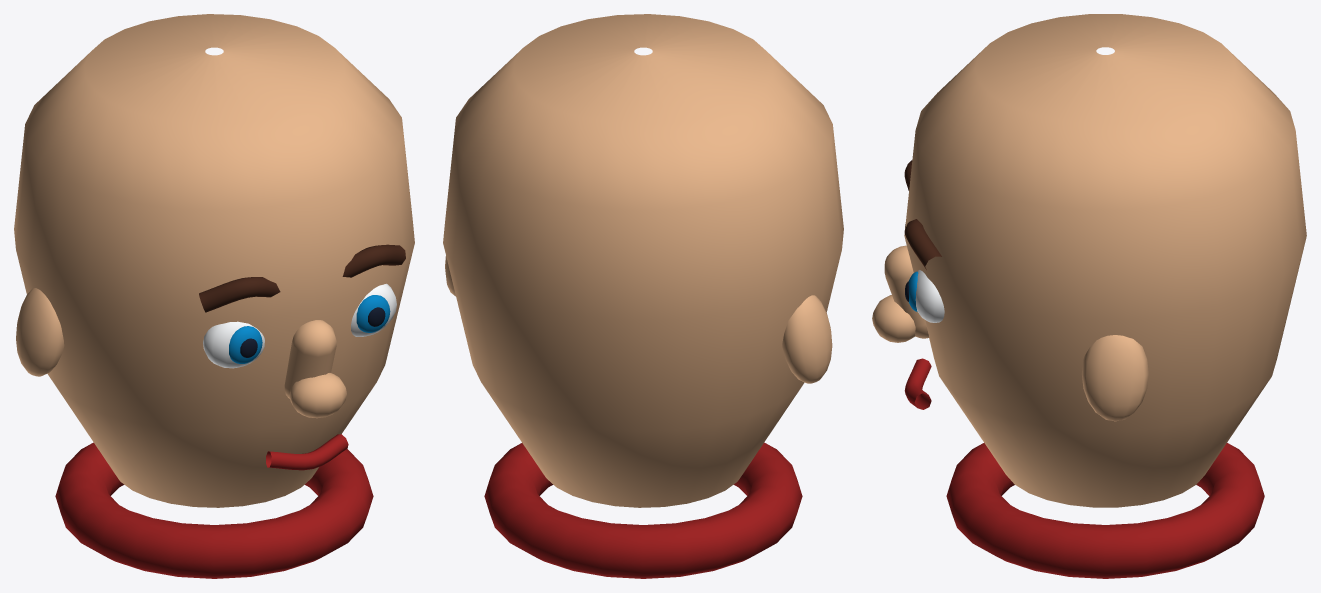
File: oval.glb
3 renders of one model, left to right at view 1: azimuth 30°, elevation 25°; view 2: azimuth 150°, elevation 25°; view 3: azimuth 270°, elevation 25°, orthographic.
Parts seen in each view (by area): view 1: cranium, collar_accent, ear_r, nose_bridge, nose_tip, brow_-1, mouth_ridge, eye_sclera_-1, brow_1, eye_iris_1, eye_iris_-1, eye_sclera_1; view 2: cranium, collar_accent, ear_r; view 3: cranium, collar_accent, ear_l, nose_bridge, nose_tip, eye_sclera_1, mouth_ridge, brow_1.
Boxes of the visible parts, box(x1,y1,x2,y2) form: cranium: box(14, 14, 414, 507); collar_accent: box(55, 442, 373, 578); ear_r: box(16, 288, 64, 376); nose_bridge: box(284, 320, 336, 398); nose_tip: box(289, 373, 346, 418); brow_-1: box(199, 277, 280, 312); mouth_ridge: box(266, 434, 348, 470); eye_sclera_-1: box(203, 321, 264, 368); brow_1: box(342, 244, 405, 277); eye_iris_1: box(356, 295, 390, 332); eye_iris_-1: box(229, 326, 262, 363); eye_sclera_1: box(351, 283, 396, 336); cranium: box(443, 14, 843, 507); collar_accent: box(484, 442, 802, 578); ear_r: box(782, 295, 832, 383); cranium: box(904, 14, 1306, 507); collar_accent: box(946, 443, 1264, 578); ear_l: box(1082, 335, 1148, 421); nose_bridge: box(884, 245, 929, 338); nose_tip: box(872, 295, 915, 342); eye_sclera_1: box(915, 270, 944, 322); mouth_ridge: box(904, 358, 931, 409); brow_1: box(904, 219, 941, 269).
Size of the model in its own units: 0.224 by 0.2663 by 0.224.
